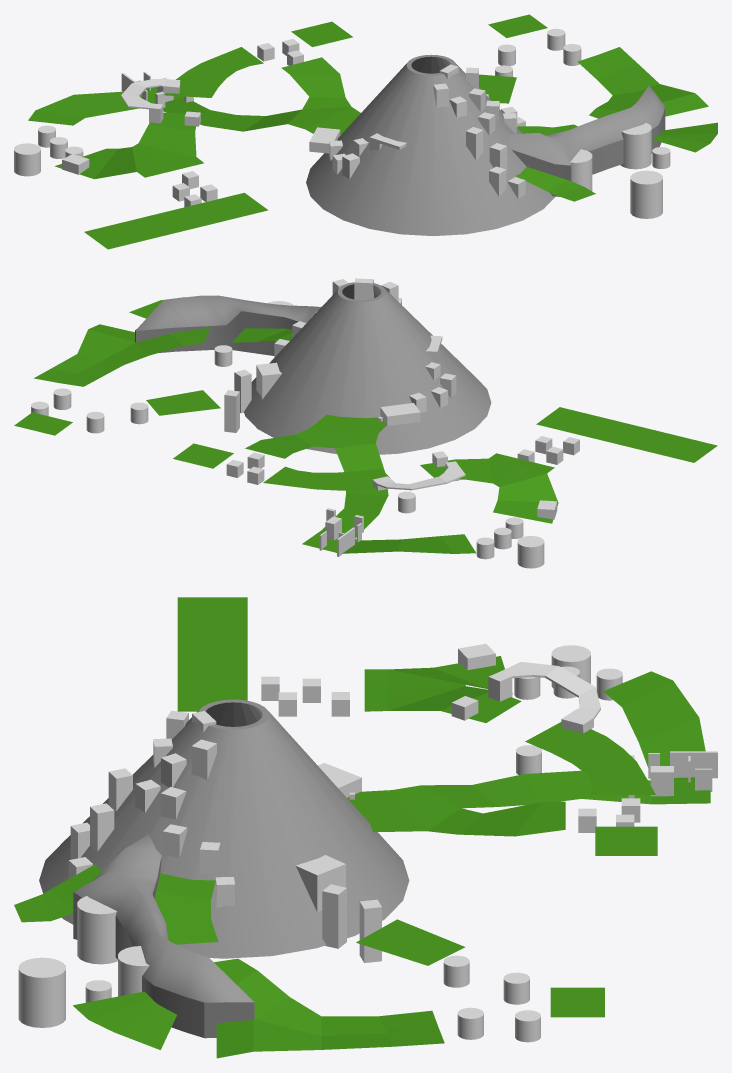
The model's file is L1_S3_GrayBlockV3.FBX.
The picture shows the model from 3 angles, top to bottom: view 1: azimuth 30°, elevation 25°; view 2: azimuth 150°, elevation 25°; view 3: azimuth 270°, elevation 25°; orthographic projection. The views are drawn at different scales.
Parts seen in each view (by area): view 1: Cone001, Plane014, Line002, Plane013, Plane019, Plane012, Plane015, Cylinder260, Box109, Cylinder259, Plane020, Plane021 (+14 smaller); view 2: Cone001, Plane014, Line002, Plane019, Plane013, Plane012, Plane015, Plane017, Box109, Plane016, Cylinder142, Plane018 (+5 smaller); view 3: Cone001, Plane014, Line002, Plane019, Plane012, Plane013, Plane015, Plane022, Plane020, Cylinder260, Box109, Plane017 (+20 smaller).
Part boxes in pixels (x1=…): Cone001: x1=306, y1=54, x2=555, y2=236; Plane014: x1=28, y1=57, x2=360, y2=135; Line002: x1=507, y1=85, x2=665, y2=196; Plane013: x1=55, y1=112, x2=203, y2=179; Plane019: x1=577, y1=47, x2=708, y2=118; Plane012: x1=84, y1=192, x2=267, y2=249; Plane015: x1=164, y1=47, x2=263, y2=97; Cylinder260: x1=630, y1=170, x2=662, y2=218; Box109: x1=121, y1=79, x2=180, y2=123; Cylinder259: x1=620, y1=123, x2=651, y2=169; Plane020: x1=652, y1=122, x2=717, y2=152; Plane021: x1=515, y1=167, x2=595, y2=201; Cone001: x1=244, y1=282, x2=491, y2=454; Plane014: x1=245, y1=414, x2=475, y2=553; Line002: x1=135, y1=295, x2=321, y2=355; Plane019: x1=34, y1=324, x2=210, y2=386; Plane013: x1=420, y1=453, x2=558, y2=523; Plane012: x1=536, y1=407, x2=717, y2=462; Plane015: x1=263, y1=466, x2=389, y2=490; Plane017: x1=146, y1=390, x2=220, y2=415; Box109: x1=372, y1=461, x2=465, y2=490; Plane016: x1=173, y1=443, x2=233, y2=468; Cylinder142: x1=517, y1=536, x2=544, y2=568; Plane018: x1=14, y1=412, x2=72, y2=435; Cone001: x1=39, y1=699, x2=409, y2=958; Plane014: x1=347, y1=671, x2=710, y2=836; Line002: x1=73, y1=834, x2=254, y2=1038; Plane019: x1=214, y1=958, x2=444, y2=1058; Plane012: x1=177, y1=597, x2=247, y2=711; Plane013: x1=364, y1=656, x2=521, y2=722; Plane015: x1=525, y1=722, x2=655, y2=794; Plane022: x1=155, y1=873, x2=218, y2=944; Plane020: x1=73, y1=991, x2=176, y2=1049; Cylinder260: x1=18, y1=957, x2=65, y2=1027; Box109: x1=488, y1=662, x2=600, y2=733; Plane017: x1=356, y1=919, x2=465, y2=965.
Bounding box in the file's own units: 19513 × 4160 × 13299.
